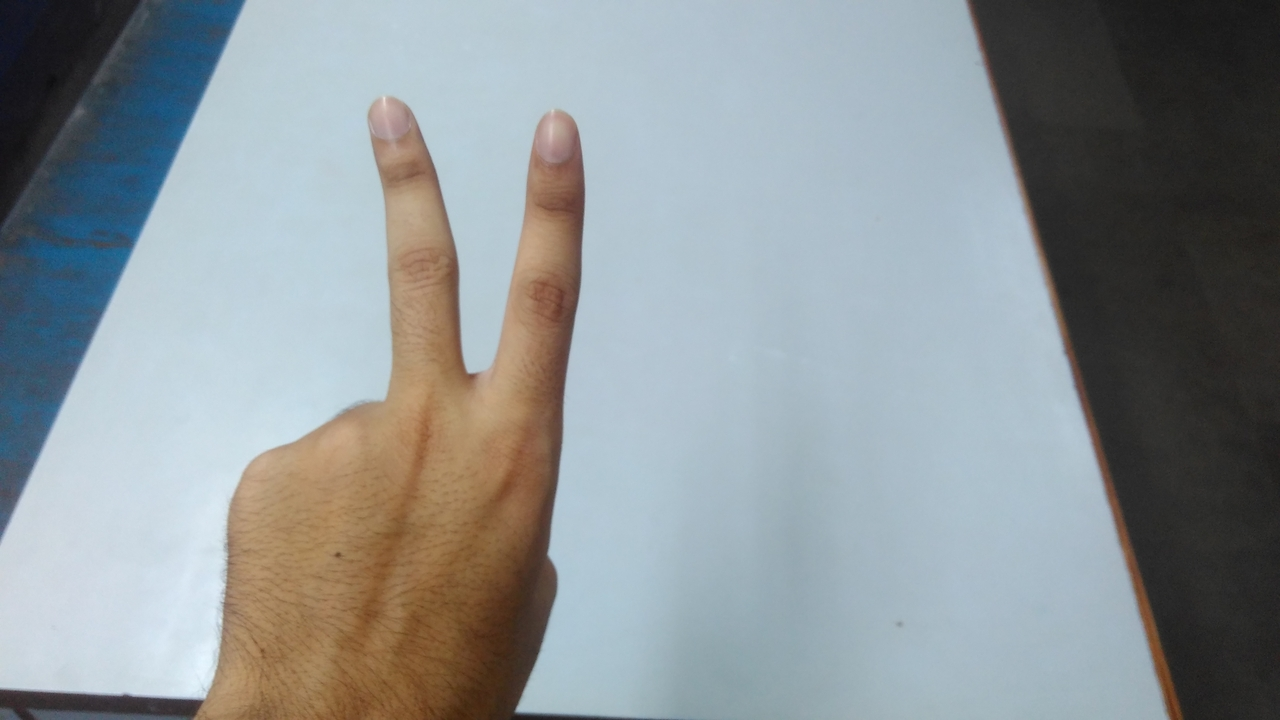fingertip: (354, 90, 426, 148), (522, 104, 586, 166)
